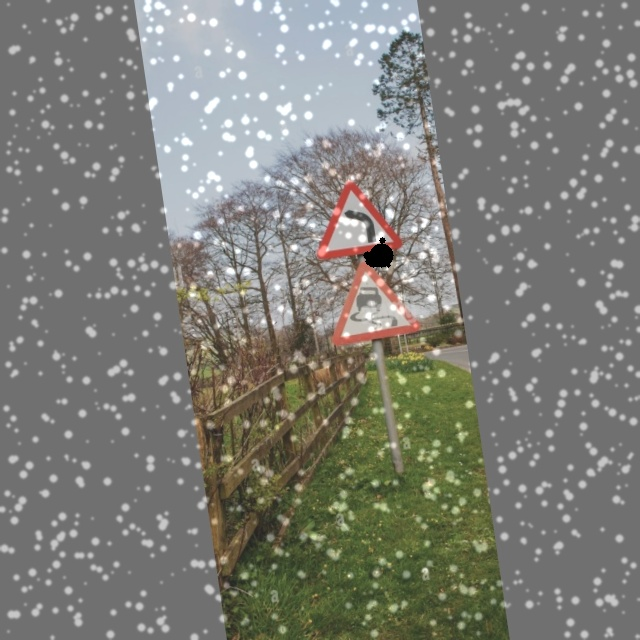Slippery_Road: (323, 254, 420, 349)
